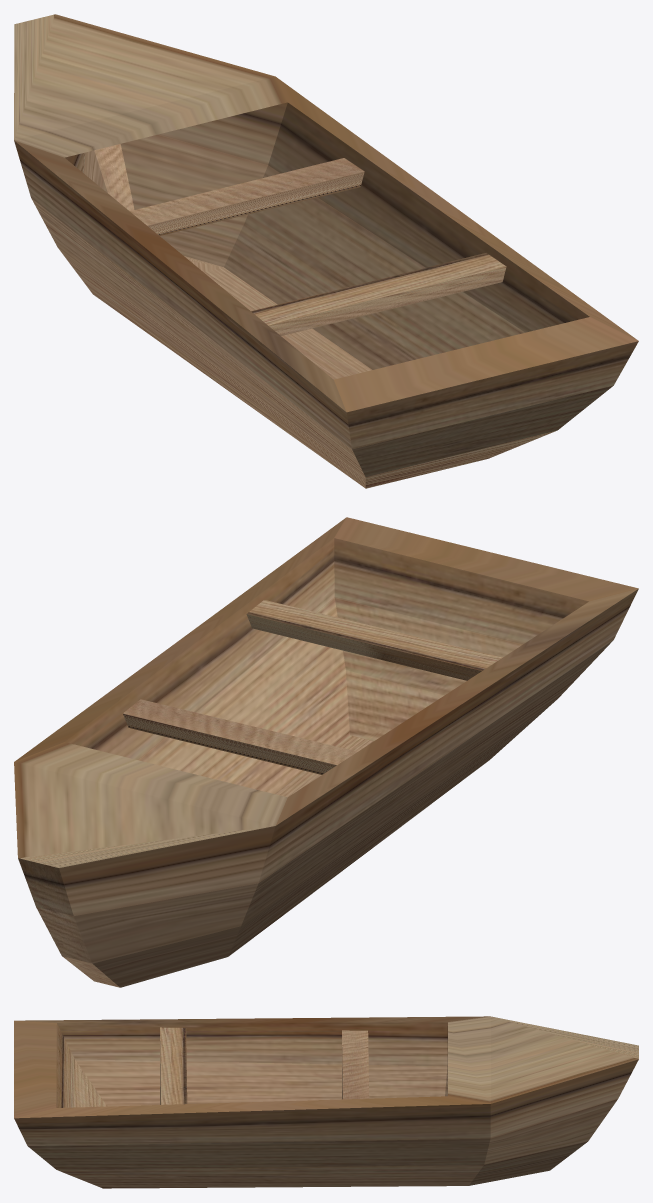
Rendered from Barco.fbx.
3 views of the same model, one above another, from view 1: azimuth 30°, elevation 25°; view 2: azimuth 150°, elevation 25°; view 3: azimuth 270°, elevation 25° (orthographic). The views are drawn at different scales.
Visible parts, largest first — view 1: Cube, Cubo; view 2: Cube, Cubo; view 3: Cube, Cubo.
Boxes of the visible parts, <box> form: Cube: <box>14,14,638,488</box>; Cubo: <box>130,158,506,335</box>; Cube: <box>14,517,638,987</box>; Cubo: <box>123,600,502,774</box>; Cube: <box>14,1016,638,1188</box>; Cubo: <box>160,1027,369,1104</box>.
Size of the model in its own units: 260 by 143 by 703.
Materials: 1 (1 with a texture image).
